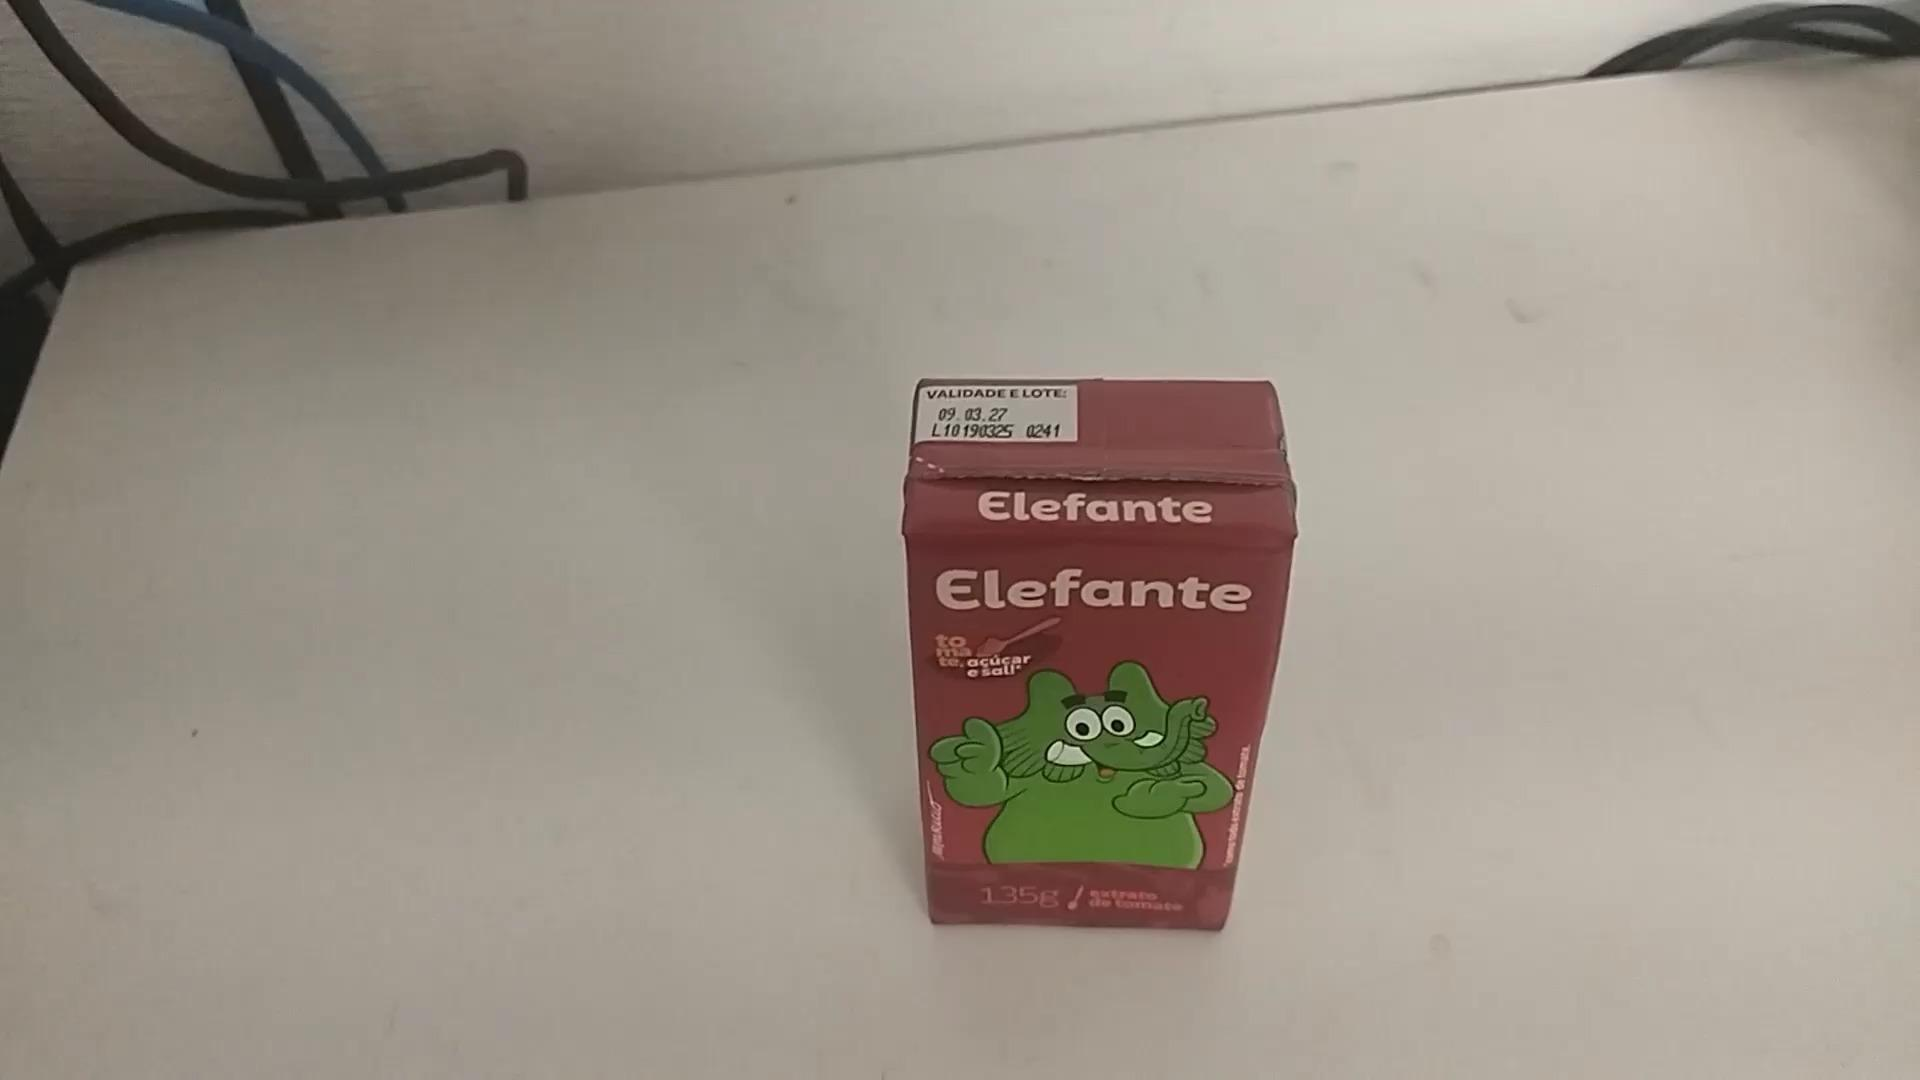tomate: (889, 363, 1302, 930)
